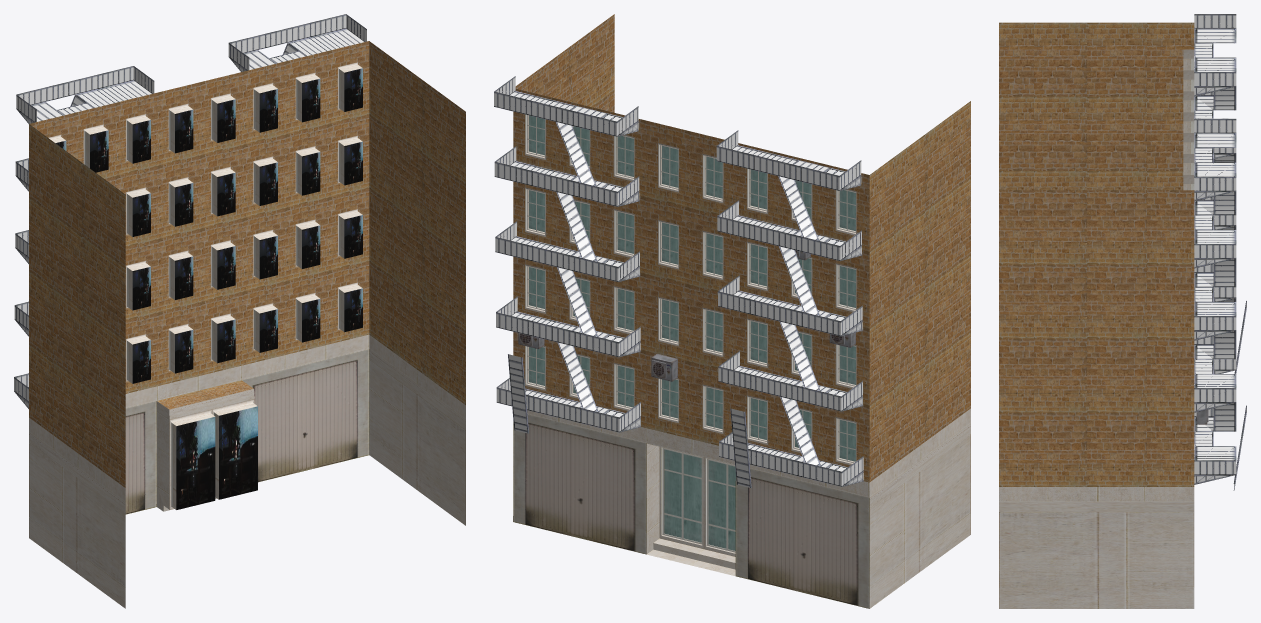
File: Building_03.fbx
3 views of the same model, side by side, from view 1: azimuth 30°, elevation 25°; view 2: azimuth 150°, elevation 25°; view 3: azimuth 270°, elevation 25° (orthographic). The views are drawn at different scales.
Parts seen in each view (by area): view 1: Building_03; view 2: Building_03; view 3: Building_03.
Part boxes in pixels (x1,y1,x2,y2): Building_03: [14, 14, 465, 608]; Building_03: [494, 14, 970, 608]; Building_03: [999, 14, 1246, 608].
Bounding box in the file's own units: 1439 × 1724 × 898.
